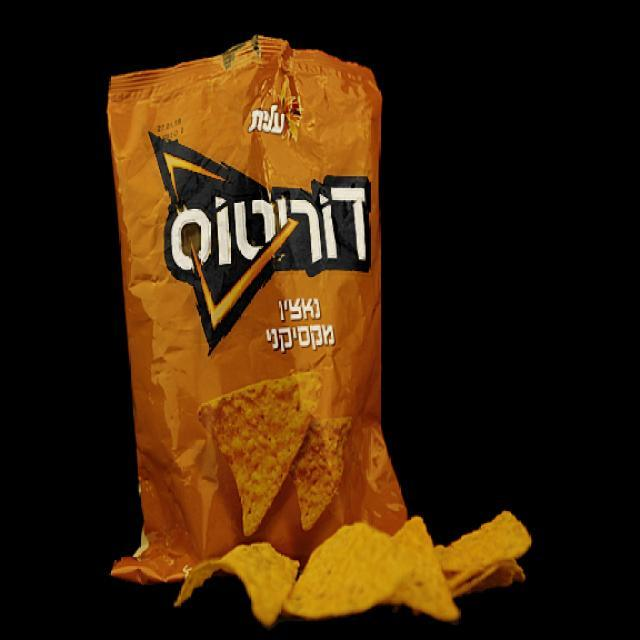Chips: (81, 30, 411, 638)
Chips packaged: (226, 462, 564, 640)
